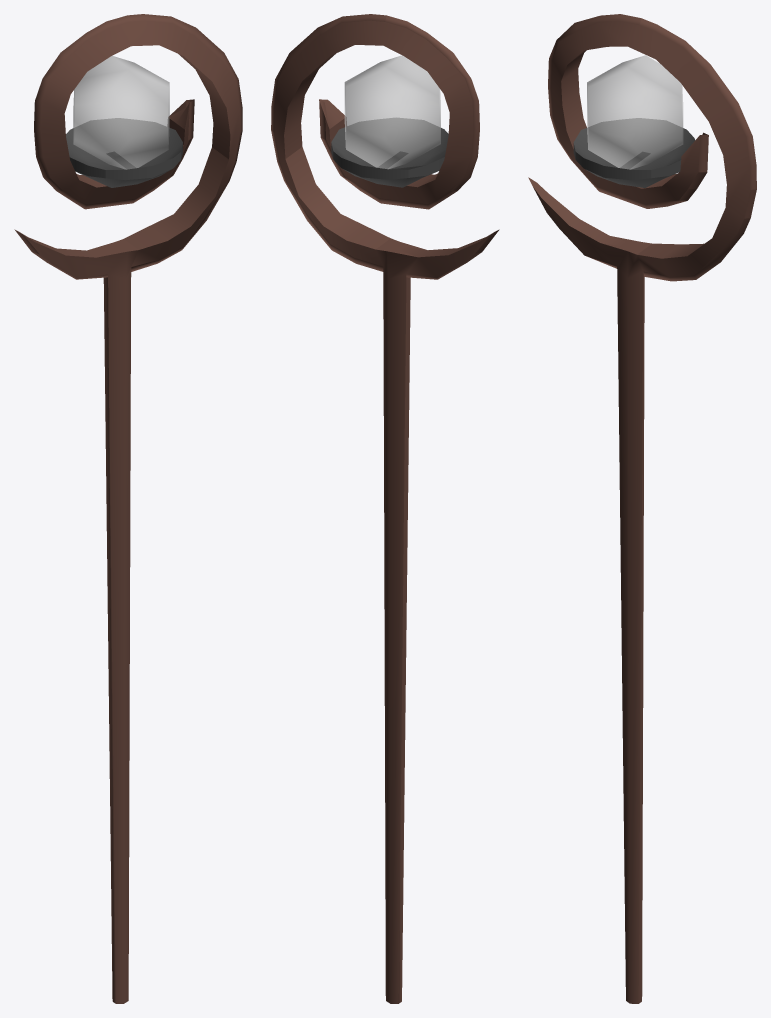
Rendered from le_staff.fbx.
3 views of the same model, side by side, from view 1: azimuth 30°, elevation 25°; view 2: azimuth 150°, elevation 25°; view 3: azimuth 330°, elevation 25° (orthographic).
Parts seen in each view (by area): view 1: pCube1, pSolid1, pCube2; view 2: pCube1, pSolid1, pCube2; view 3: pCube1, pSolid1, pCube2.
Part boxes in pixels (x1=…): pCube1: x1=14, y1=14, x2=242, y2=1003; pSolid1: x1=73, y1=55, x2=169, y2=169; pCube2: x1=66, y1=118, x2=182, y2=187; pCube1: x1=271, y1=14, x2=499, y2=1003; pSolid1: x1=344, y1=55, x2=440, y2=169; pCube2: x1=331, y1=118, x2=448, y2=187; pCube1: x1=528, y1=14, x2=756, y2=1003; pSolid1: x1=587, y1=55, x2=683, y2=169; pCube2: x1=573, y1=118, x2=695, y2=187.
Bounding box in the file's own units: 4.43 × 18.23 × 2.09.
